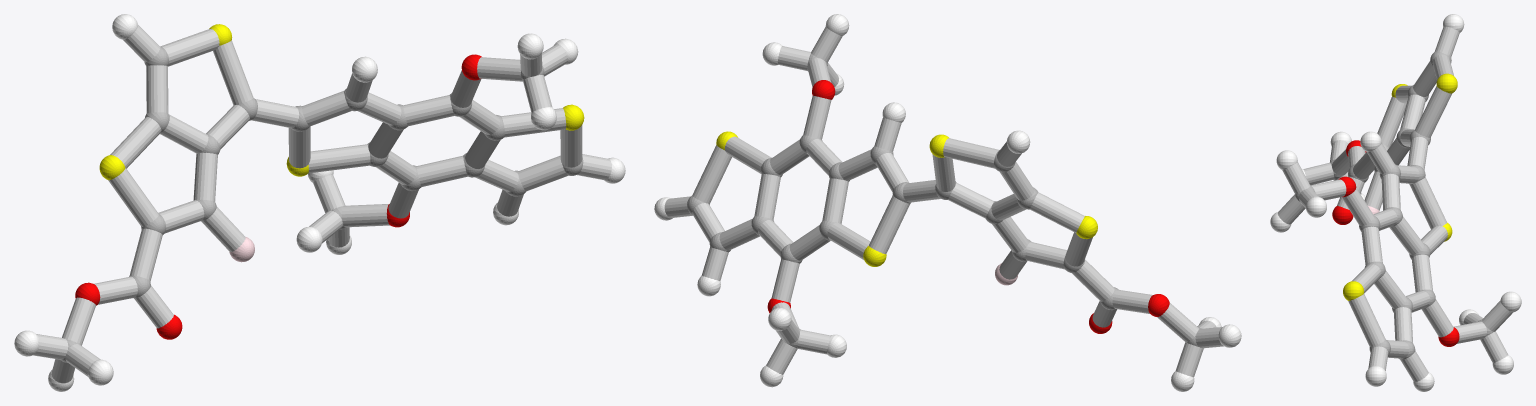
The model's file is color.glb.
3 views of the same model, side by side, from view 1: azimuth 30°, elevation 25°; view 2: azimuth 150°, elevation 25°; view 3: azimuth 270°, elevation 25° (orthographic). The views are drawn at different scales.
Parts seen in each view (by area): view 1: grp15205, grp8689, grp1, grp13395, grp7241; view 2: grp15205, grp8689, grp1, grp7241, grp13395; view 3: grp15205, grp8689, grp1, grp13395, grp7241.
Boxes of the visible parts, x1=… form: grp15205: x1=33, y1=25, x2=611, y2=383; grp8689: x1=14, y1=14, x2=625, y2=391; grp1: x1=61, y1=46, x2=583, y2=362; grp13395: x1=75, y1=54, x2=481, y2=339; grp7241: x1=99, y1=24, x2=584, y2=180; grp15205: x1=664, y1=26, x2=1223, y2=377; grp8689: x1=654, y1=14, x2=1241, y2=391; grp1: x1=687, y1=53, x2=1201, y2=347; grp7241: x1=716, y1=131, x2=1097, y2=266; grp13395: x1=767, y1=80, x2=1169, y2=333; grp15205: x1=1277, y1=26, x2=1512, y2=381; grp8689: x1=1270, y1=14, x2=1521, y2=391; grp1: x1=1295, y1=51, x2=1493, y2=359; grp13395: x1=1332, y1=140, x2=1459, y2=346; grp7241: x1=1343, y1=73, x2=1457, y2=300.
Size of the model in its own units: 16.67 by 8.12 by 7.07.
